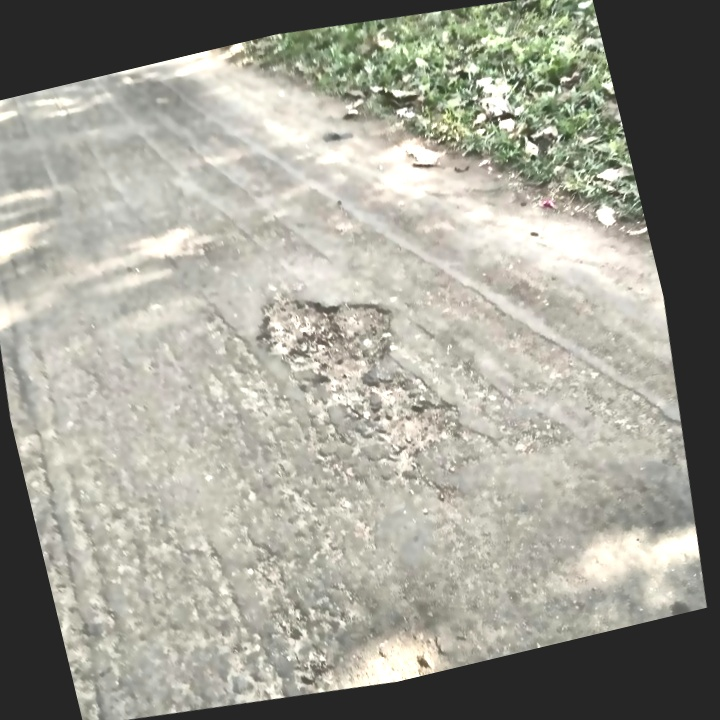pothole: (238, 264, 420, 407), (357, 356, 480, 482)
